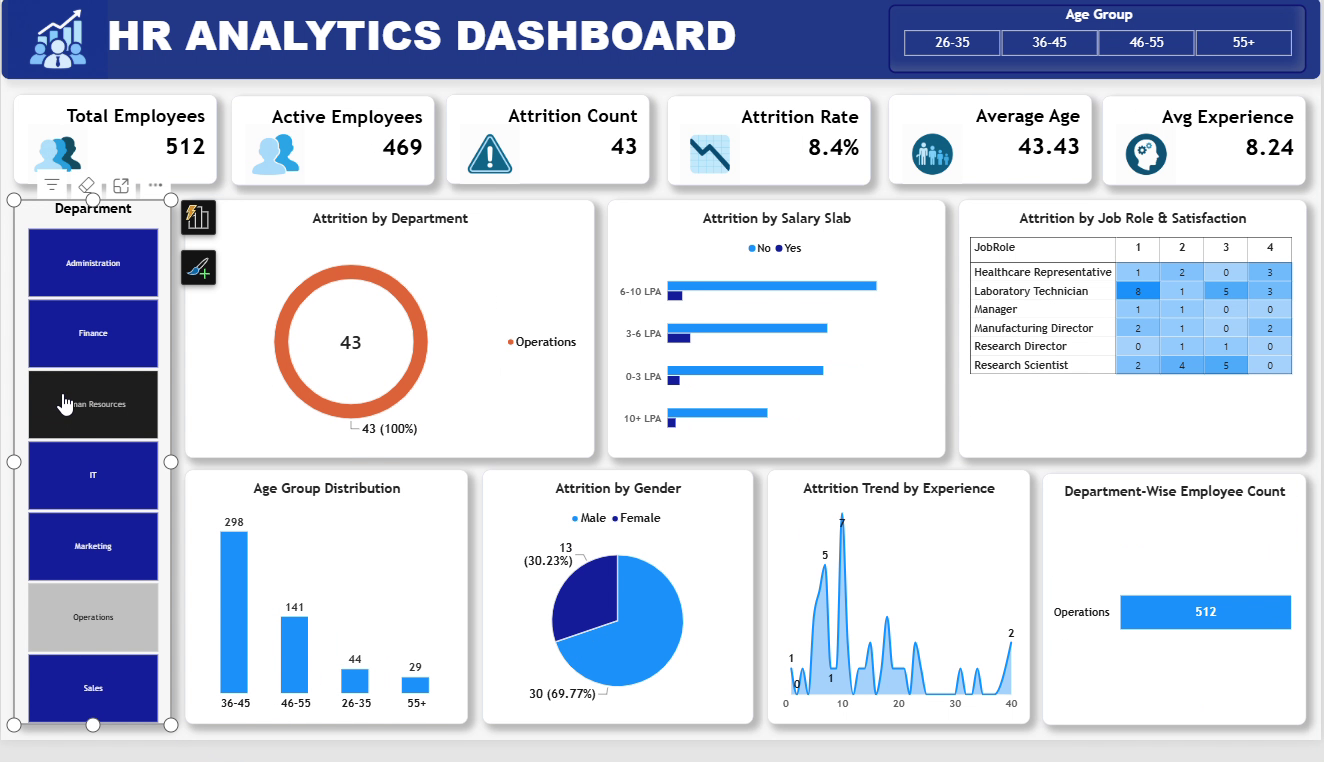

This screenshot's page, from the dashboard's own definition file:
{"tool":"powerbi","page":{"name":"Page 1","canvas":[1920,1080],"ordinal":0},"visuals":[{"type":"textbox","box":[0,0,1920,120],"z":0},{"type":"cardVisual","title":"Total Employees","fields":{"Data":["CountNonNull(HR_Analytics-4.EmpID)"]},"box":[18,142,296,130],"z":1000},{"type":"cardVisual","title":"Active Employees","fields":{"Data":["CountNonNull(HR_Analytics-4.EmpID)"]},"box":[334,144,296,130],"z":2000},{"type":"cardVisual","title":"Attrition Count","fields":{"Data":["Sum(HR_Analytics-4.AttritionCount)"]},"box":[648,142,296,130],"z":3000},{"type":"cardVisual","title":"Attrition Rate","fields":{"Data":["_measures.Attrition Rate %"]},"box":[968.4,143.6,296,130],"z":4000},{"type":"cardVisual","title":"Average Age","fields":{"Data":["Avg(HR_Analytics-4.Age)"]},"box":[1290,142,296,130],"z":5000},{"type":"cardVisual","title":"Avg Experience","fields":{"Data":["Avg(HR_Analytics-4.YearsatCompany)"]},"box":[1602,144,296,130],"z":6000},{"type":"donutChart","title":"Attrition by Department","fields":{"Category":["HR_Analytics-4.Department"],"Y":["Sum(HR_Analytics-4.AttritionCount)"]},"box":[268,294,596,376],"z":7000},{"type":"clusteredBarChart","title":"Attrition by Salary Slab","fields":{"Category":["HR_Analytics-4.SalarySlab"],"Series":["HR_Analytics-4.Attrition"],"Y":["CountNonNull(HR_Analytics-4.EmpID)"]},"box":[882,294,492,376],"z":8000},{"type":"pivotTable","title":"Attrition by Job Role & Satisfaction","fields":{"Columns":["HR_Analytics-4.JobSatisfaction"],"Rows":["HR_Analytics-4.JobRole"],"Values":["Sum(HR_Analytics-4.AttritionCount)"]},"box":[1392,294,506,376],"z":9000},{"type":"columnChart","title":"Age Group Distribution","fields":{"Category":["HR_Analytics-4.AgeGroup"],"Y":["Sum(HR_Analytics-4.EmployeeCount)"]},"box":[268,688,412,370],"z":10000},{"type":"pieChart","title":"Attrition by Gender","fields":{"Category":["HR_Analytics-4.Gender"],"Y":["Sum(HR_Analytics-4.AttritionCount)"]},"box":[700,688,394,370],"z":11000},{"type":"areaChart","title":"Attrition Trend by Experience","fields":{"Category":["HR_Analytics-4.TotalExperience(Years)"],"Y2":["Sum(HR_Analytics-4.AttritionCount)"]},"box":[1114,688,382,370],"z":12000},{"type":"funnel","title":"Department-Wise Employee Count ","fields":{"Category":["HR_Analytics-4.Department"],"Y":["CountNonNull(HR_Analytics-4.EmpID)"]},"box":[1514,692,384,366],"z":13000},{"type":"slicer","title":"Department","fields":{"Values":["HR_Analytics-4.Department"]},"box":[18,294,230,764],"z":14000},{"type":"slicer","title":"Age Group","fields":{"Values":["HR_Analytics-4.AgeGroup"]},"box":[1290.5,11.4,607.8,100],"z":15000},{"type":"image","box":[18,186,128,86],"z":16000},{"type":"image","box":[334,186,128,86],"z":17000},{"type":"image","box":[648,186,128,86],"z":18000},{"type":"image","box":[968,186,128,86],"z":19000},{"type":"image","box":[1290,186,128,86],"z":20000},{"type":"image","box":[1602,186,128,86],"z":21000},{"type":"image","box":[0,2,166,117],"z":22000}]}

Visuals, with their boxes on the page's 1920x1080 design canvas (x1, y1, x2, y2). These are canvas units, not pixel positions in the 1324x762 screenshot, which may show the page scaled, cropped or inside an application window:
textbox: detection(0, 0, 1920, 120)
"Total Employees" cardVisual: detection(18, 142, 314, 272)
"Active Employees" cardVisual: detection(334, 144, 630, 274)
"Attrition Count" cardVisual: detection(648, 142, 944, 272)
"Attrition Rate" cardVisual: detection(968, 144, 1264, 274)
"Average Age" cardVisual: detection(1290, 142, 1586, 272)
"Avg Experience" cardVisual: detection(1602, 144, 1898, 274)
"Attrition by Department" donutChart: detection(268, 294, 864, 670)
"Attrition by Salary Slab" clusteredBarChart: detection(882, 294, 1374, 670)
"Attrition by Job Role & Satisfaction" pivotTable: detection(1392, 294, 1898, 670)
"Age Group Distribution" columnChart: detection(268, 688, 680, 1058)
"Attrition by Gender" pieChart: detection(700, 688, 1094, 1058)
"Attrition Trend by Experience" areaChart: detection(1114, 688, 1496, 1058)
"Department-Wise Employee Count " funnel: detection(1514, 692, 1898, 1058)
"Department" slicer: detection(18, 294, 248, 1058)
"Age Group" slicer: detection(1290, 11, 1898, 111)
image: detection(18, 186, 146, 272)
image: detection(334, 186, 462, 272)
image: detection(648, 186, 776, 272)
image: detection(968, 186, 1096, 272)
image: detection(1290, 186, 1418, 272)
image: detection(1602, 186, 1730, 272)
image: detection(0, 2, 166, 119)
